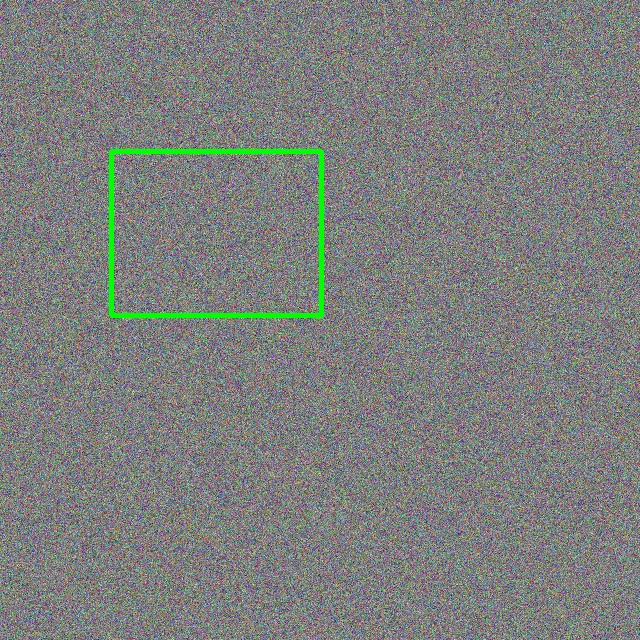base: (111, 151, 321, 315)
